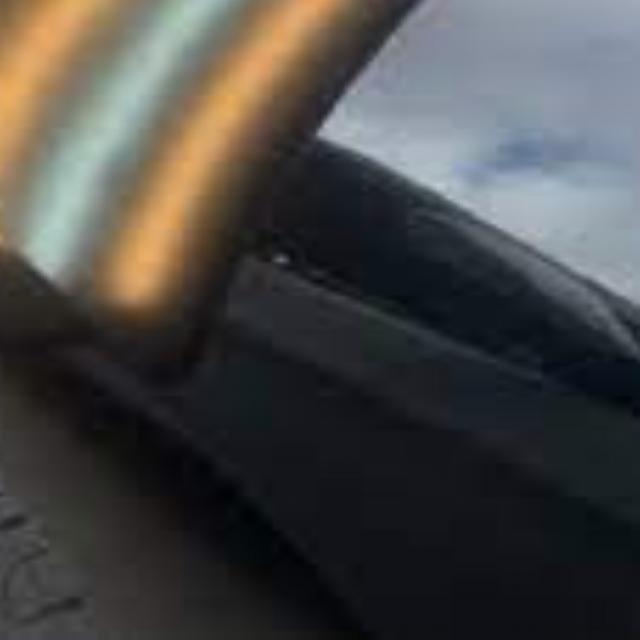dents: (409, 125, 637, 272)
